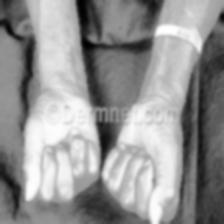Toxin: (64, 40, 84, 92), (69, 128, 88, 182)
